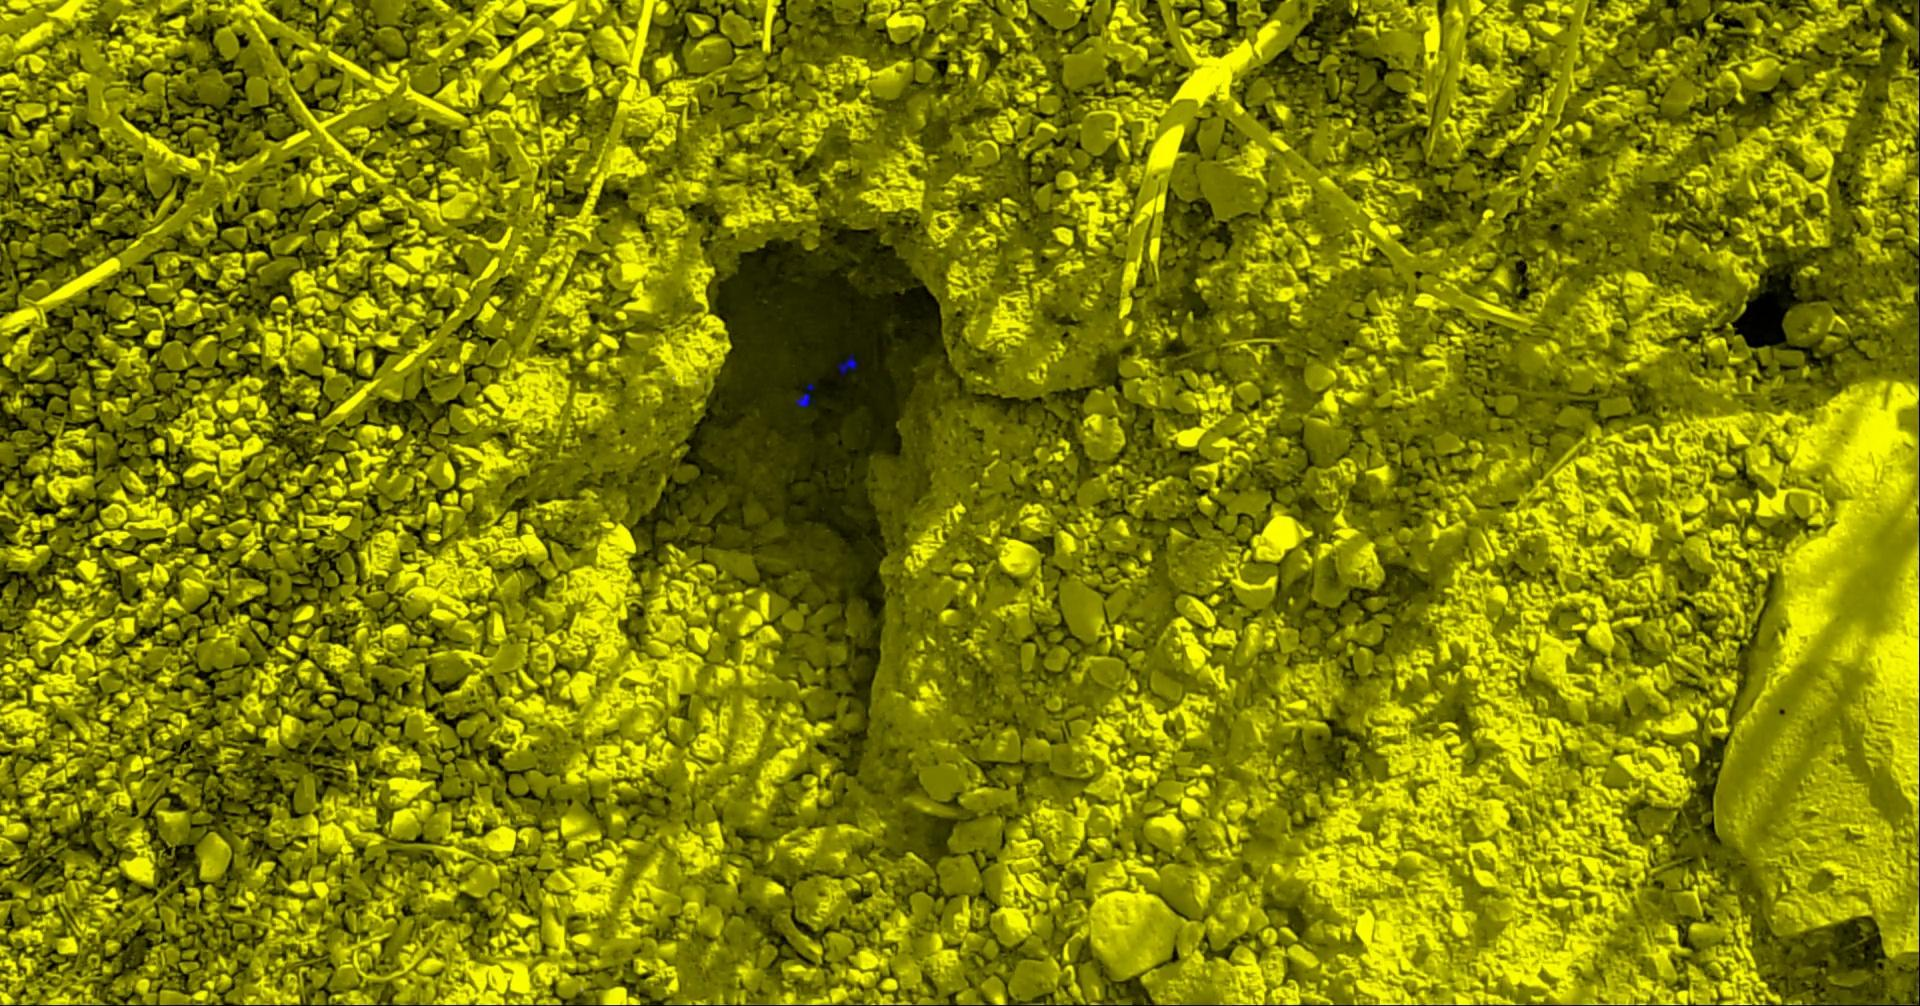ant: (796, 384, 815, 406), (841, 354, 858, 373), (1919, 309, 1920, 379)
